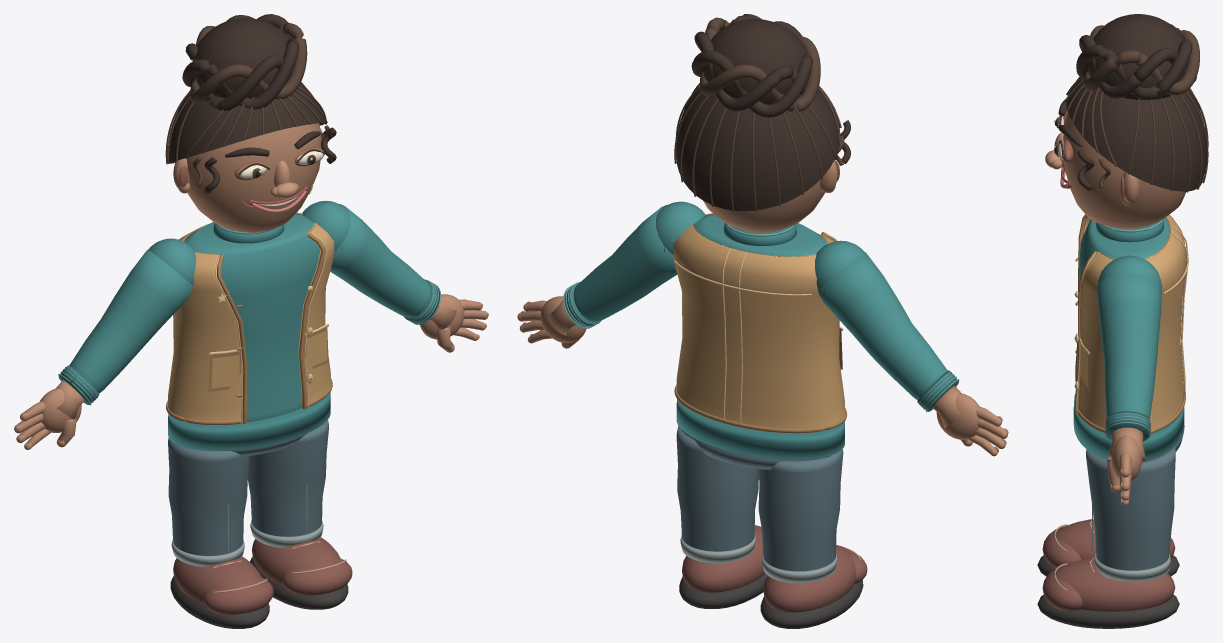
The picture shows the model from 3 angles, left to right: view 1: azimuth 30°, elevation 25°; view 2: azimuth 150°, elevation 25°; view 3: azimuth 270°, elevation 25°; orthographic projection. The views are drawn at different scales.
Parts seen in each view (by area): view 1: soft knit | torso, woven vest | open front shell, head | oval with full cheeks and defined jaw, left trouser leg, left knitted sleeve, right trouser leg, right knitted sleeve, hair | swept scalp, knit lower rib hem, hair | high bun core, right shoe upper, left shoe upper (+18 smaller); view 2: woven vest | open front shell, hair | swept scalp, left trouser leg, left knitted sleeve, right trouser leg, right knitted sleeve, knit lower rib hem, hair | high bun core, left shoe upper, right shoe upper, head | oval with full cheeks and defined jaw, bun | loose braided strand 1 (+15 smaller); view 3: hair | swept scalp, woven vest | open front shell, right trouser leg, right knitted sleeve, head | oval with full cheeks and defined jaw, right shoe upper, hair | high bun core, right shoe sole, knit lower rib hem, bun | loose braided strand 1, soft knit | torso, bun | loose braided strand 2 (+19 smaller).
Part boxes in pixels (x1,y1,x2,y2): soft knit | torso: (185, 213, 320, 422); woven vest | open front shell: (168, 212, 334, 420); head | oval with full cheeks and defined jaw: (186, 123, 321, 232); left trouser leg: (168, 438, 249, 555); left knitted sleeve: (69, 249, 192, 393); right trouser leg: (247, 420, 328, 536); right knitted sleeve: (330, 204, 430, 317); hair | swept scalp: (168, 82, 325, 163); knit lower rib hem: (168, 392, 330, 450); hair | high bun core: (193, 18, 292, 98); right shoe upper: (251, 537, 339, 585); left shoe upper: (173, 556, 261, 604); woven vest | open front shell: (673, 213, 845, 428); hair | swept scalp: (676, 88, 840, 211); left trouser leg: (758, 449, 843, 571); left knitted sleeve: (818, 252, 947, 400); right trouser leg: (676, 426, 758, 551); right knitted sleeve: (573, 205, 677, 321); knit lower rib hem: (676, 399, 844, 459); hair | high bun core: (703, 19, 807, 104); left shoe upper: (763, 545, 856, 612); right shoe upper: (682, 525, 765, 592); head | oval with full cheeks and defined jaw: (703, 160, 834, 232); bun | loose braided strand 1: (700, 17, 820, 111); hair | swept scalp: (1066, 79, 1206, 191); woven vest | open front shell: (1079, 214, 1186, 429); right trouser leg: (1086, 447, 1175, 570); right knitted sleeve: (1097, 275, 1161, 418); head | oval with full cheeks and defined jaw: (1063, 112, 1185, 228); right shoe upper: (1055, 558, 1175, 611); hair | high bun core: (1088, 14, 1187, 100); right shoe sole: (1037, 594, 1179, 628); knit lower rib hem: (1073, 393, 1184, 461); bun | loose braided strand 1: (1084, 25, 1199, 95); soft knit | torso: (1079, 217, 1169, 278); bun | loose braided strand 2: (1076, 40, 1192, 100).
Bounding box in the file's own units: 1.5 × 1.73 × 0.4616.
